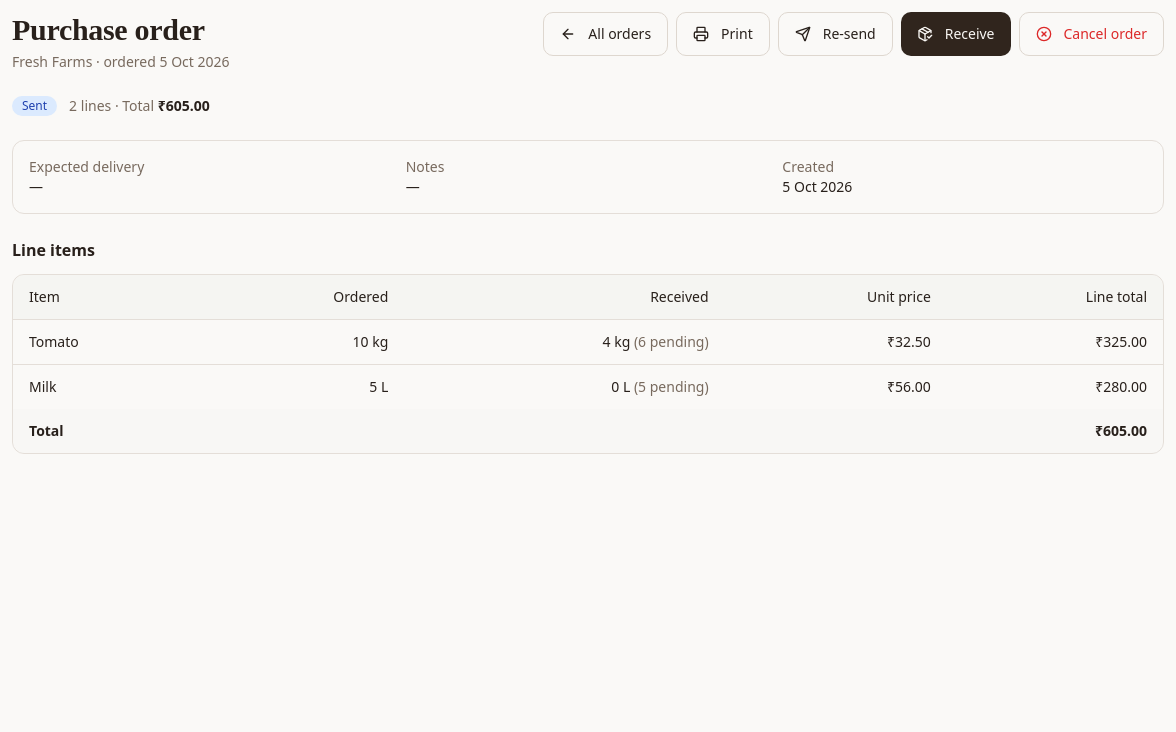
Scenario: PurchaseOrderDetailPage lifecycle actions › receive form opens with remaining quantities prefilled
Click the button "Receive" at x=956, y=34, box [901,12,1010,56]
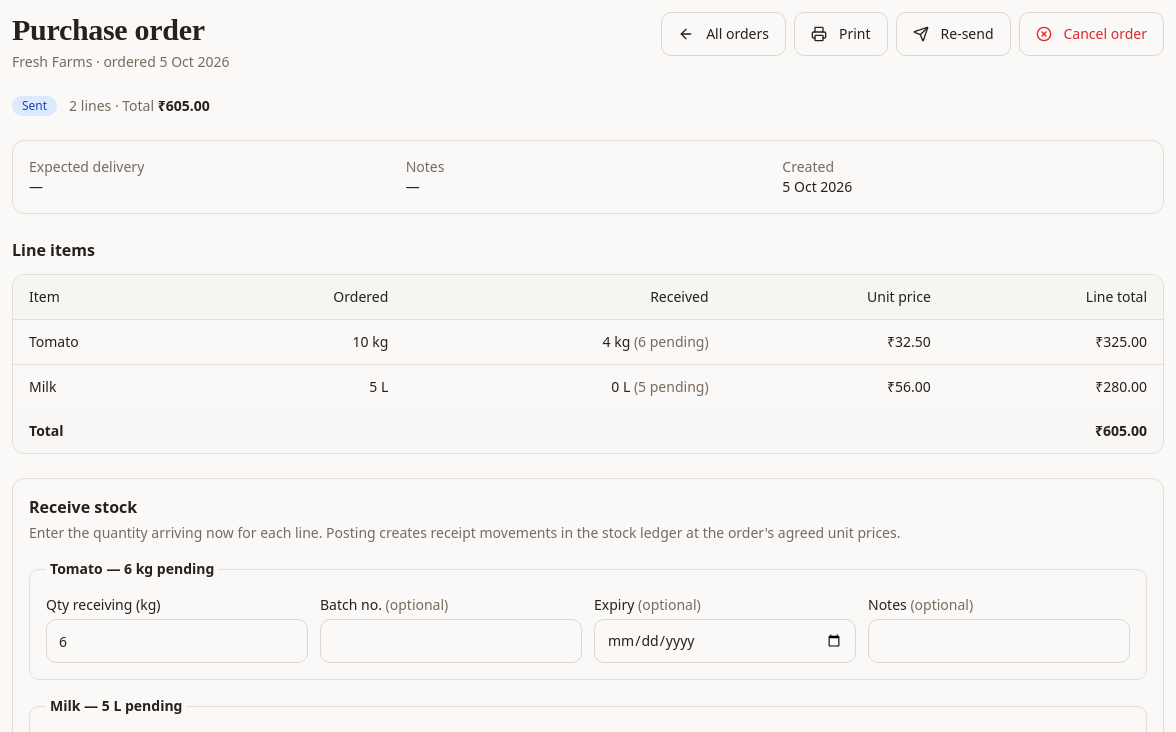
Expected: the number field labelled "Qty receiving (kg)" holds "6", [46,619,308,663]
Expected: the number of fields labelled "Batch no. (optional)" is 2
Expected: the number of date fields labelled "Expiry (optional)" is 2
